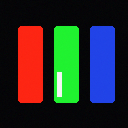4 line_v: (57, 72, 61, 96)
